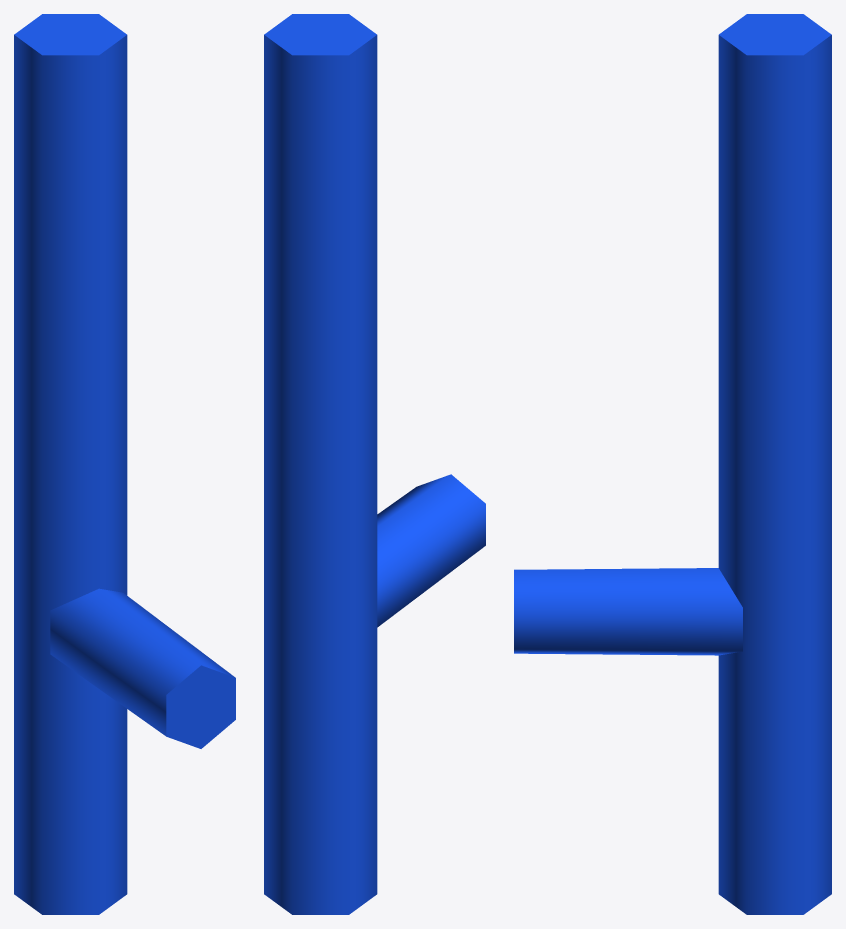
Rendered from Cop_stick.fbx.
The picture shows the model from 3 angles, left to right: view 1: azimuth 30°, elevation 25°; view 2: azimuth 150°, elevation 25°; view 3: azimuth 270°, elevation 25°; orthographic projection.
Visible parts, largest first — view 1: Cop_stick_01; view 2: Cop_stick_01; view 3: Cop_stick_01.
Boxes of the visible parts, x1,y1,x2,y2 form: Cop_stick_01: [14, 14, 235, 914]; Cop_stick_01: [264, 14, 485, 914]; Cop_stick_01: [514, 14, 831, 914].
Size of the model in its own units: 8.16 by 78.97 by 26.45.
